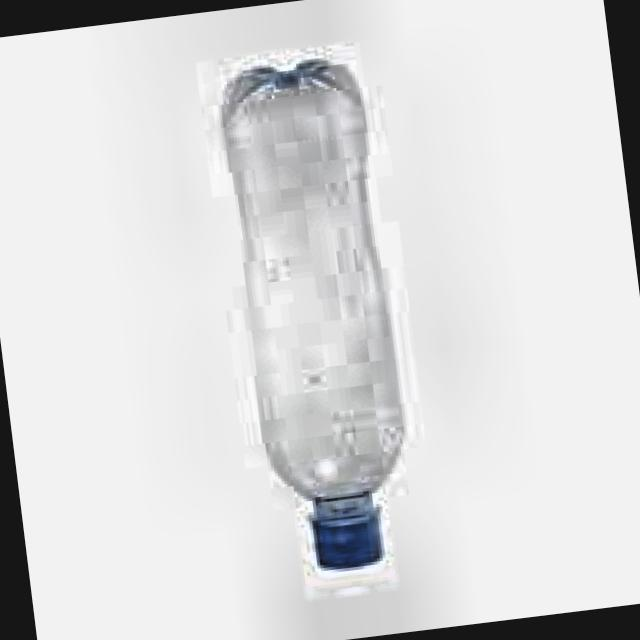plastic bottle: (223, 63, 403, 570)
